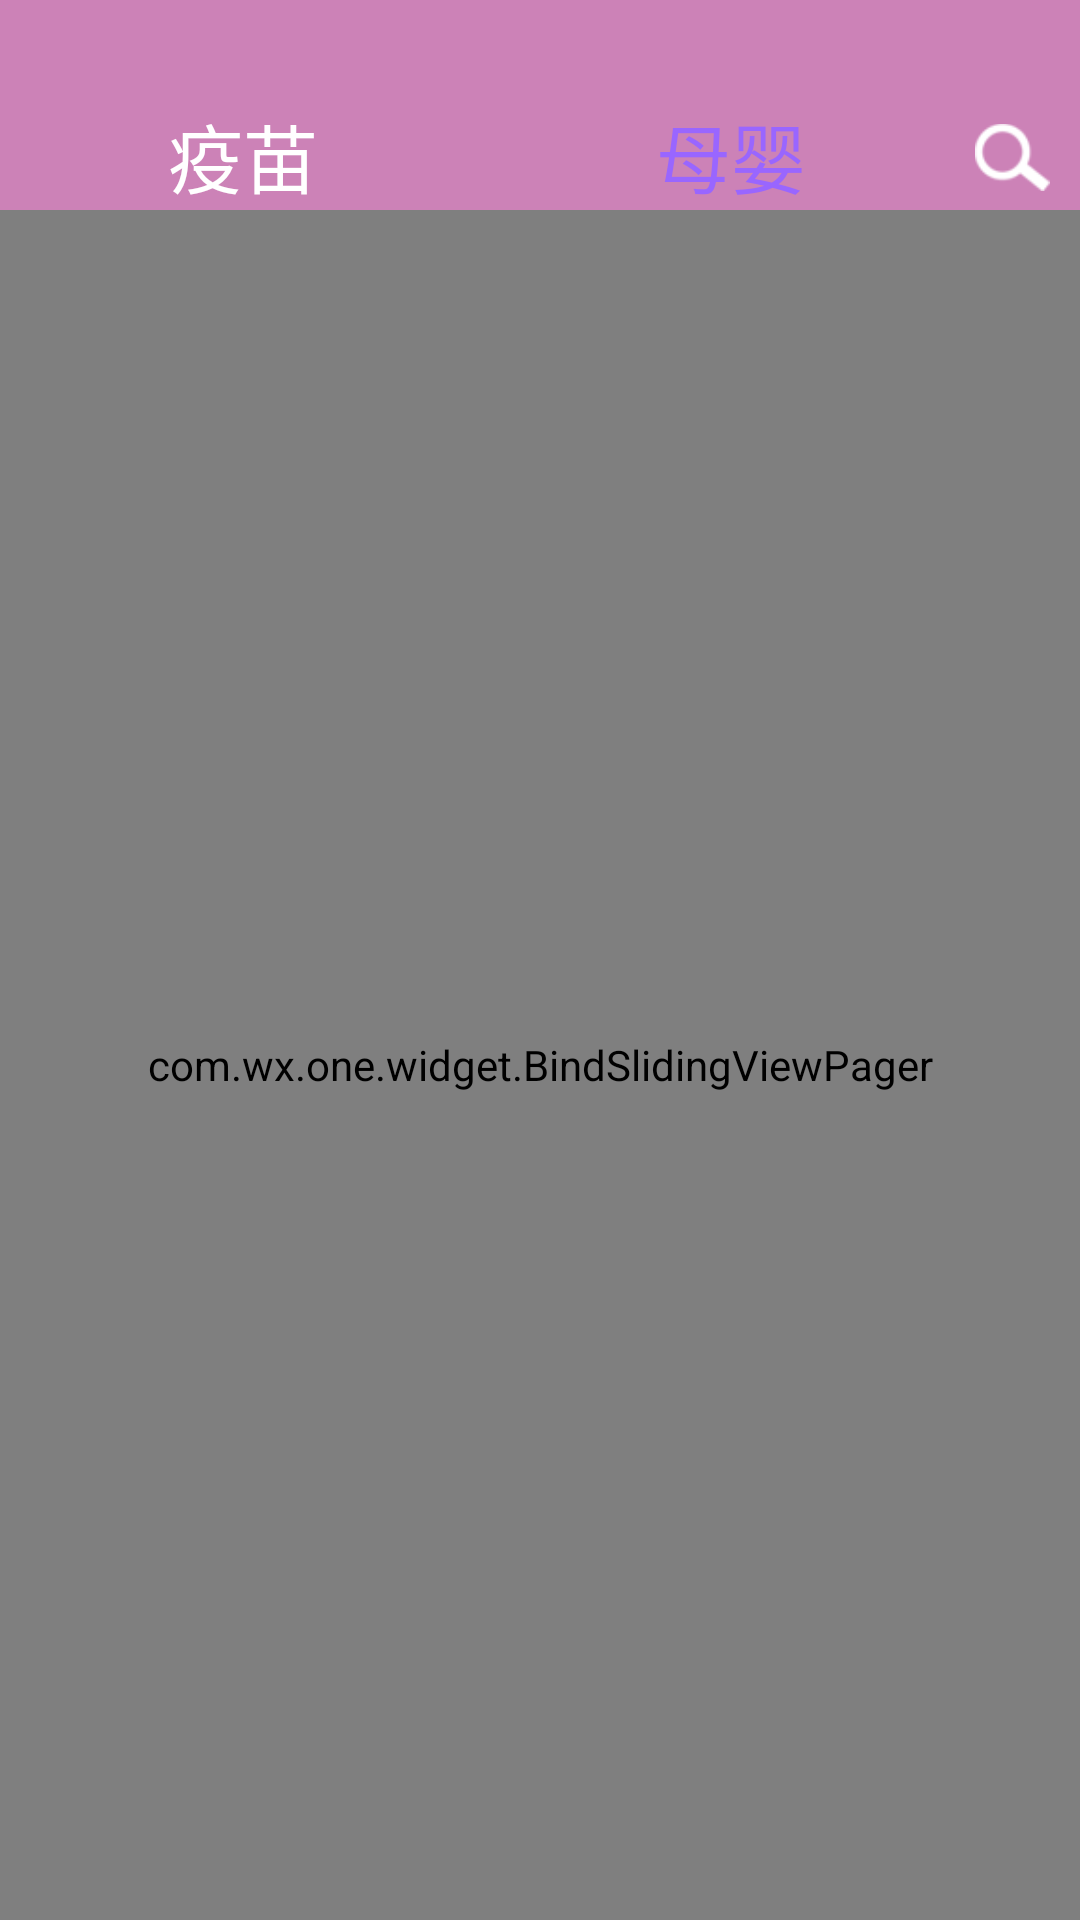

Icons on this 1080px×1920px Android screen, each with its box as (x1, y1, x2, y2):
home fangdajing: (975, 124, 1050, 191)
